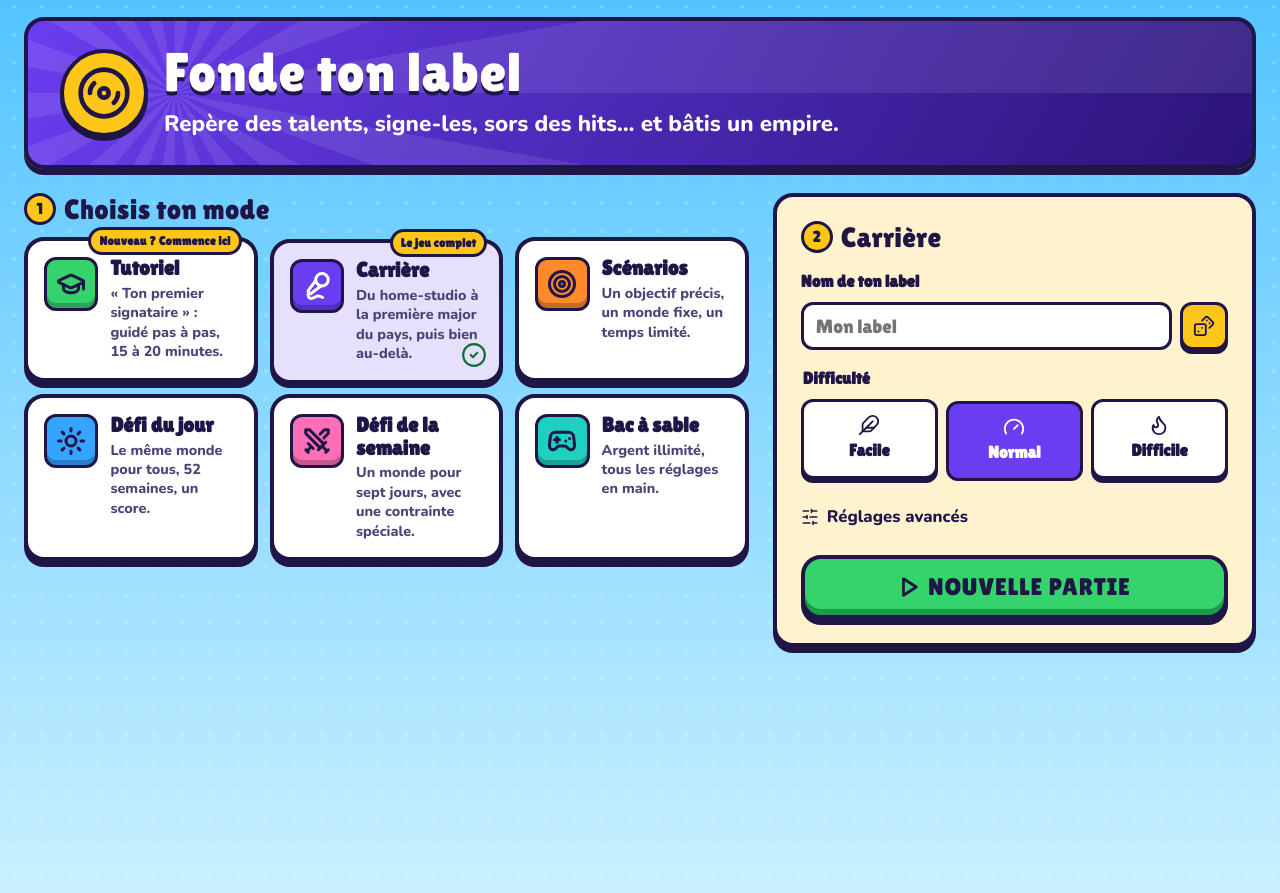
Test case: écran de départ › bloque le lancement quand un réglage sort des bornes
Expected: the button "Nouvelle partie" is enabled, [801,555,1228,619]
Click the heading "Réglages avancés" at point(884, 516), box [801,505,968,528]
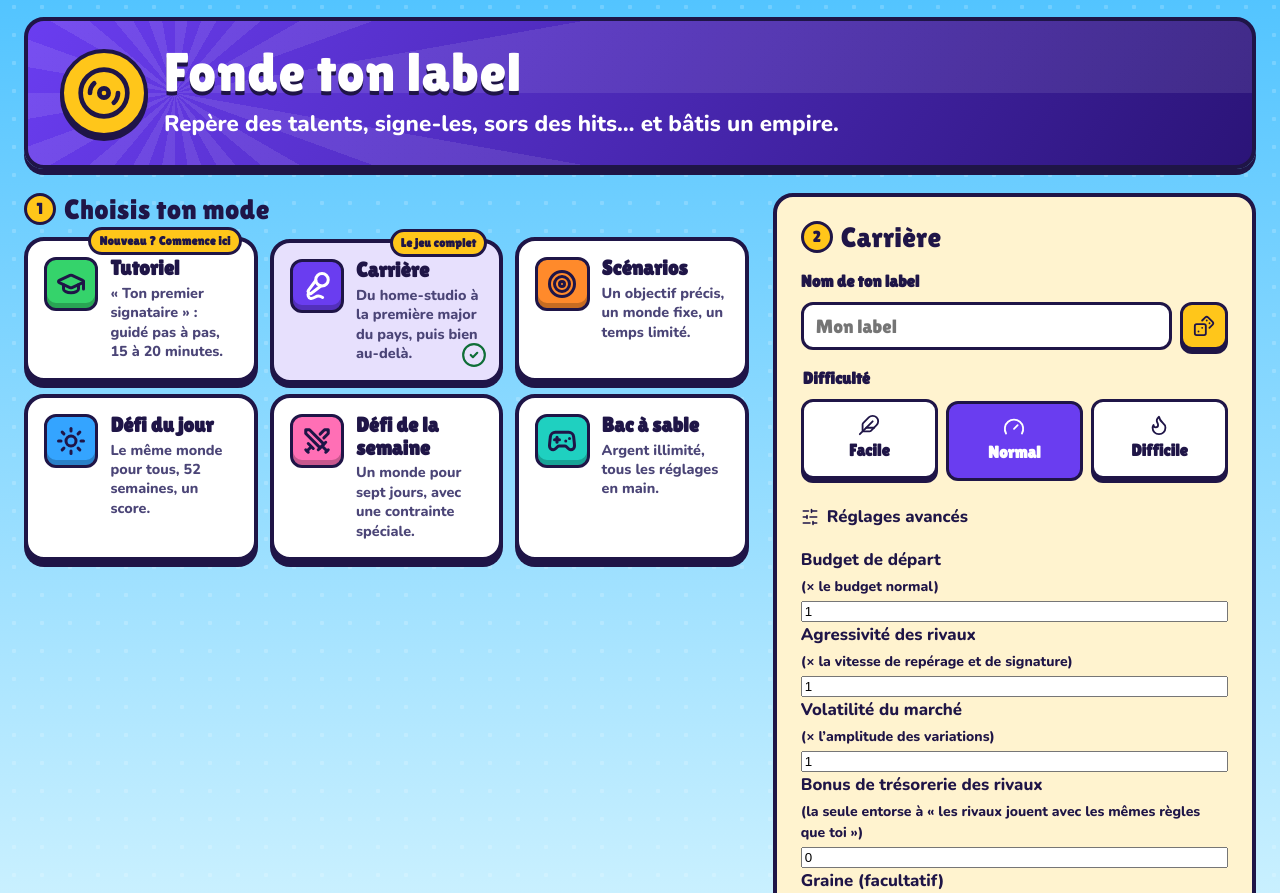
Replace the text in the number field labelled "Budget de départ (× le budget normal)" with "50" at point(1014, 611), box [801,601,1228,622]
(page scrolled)
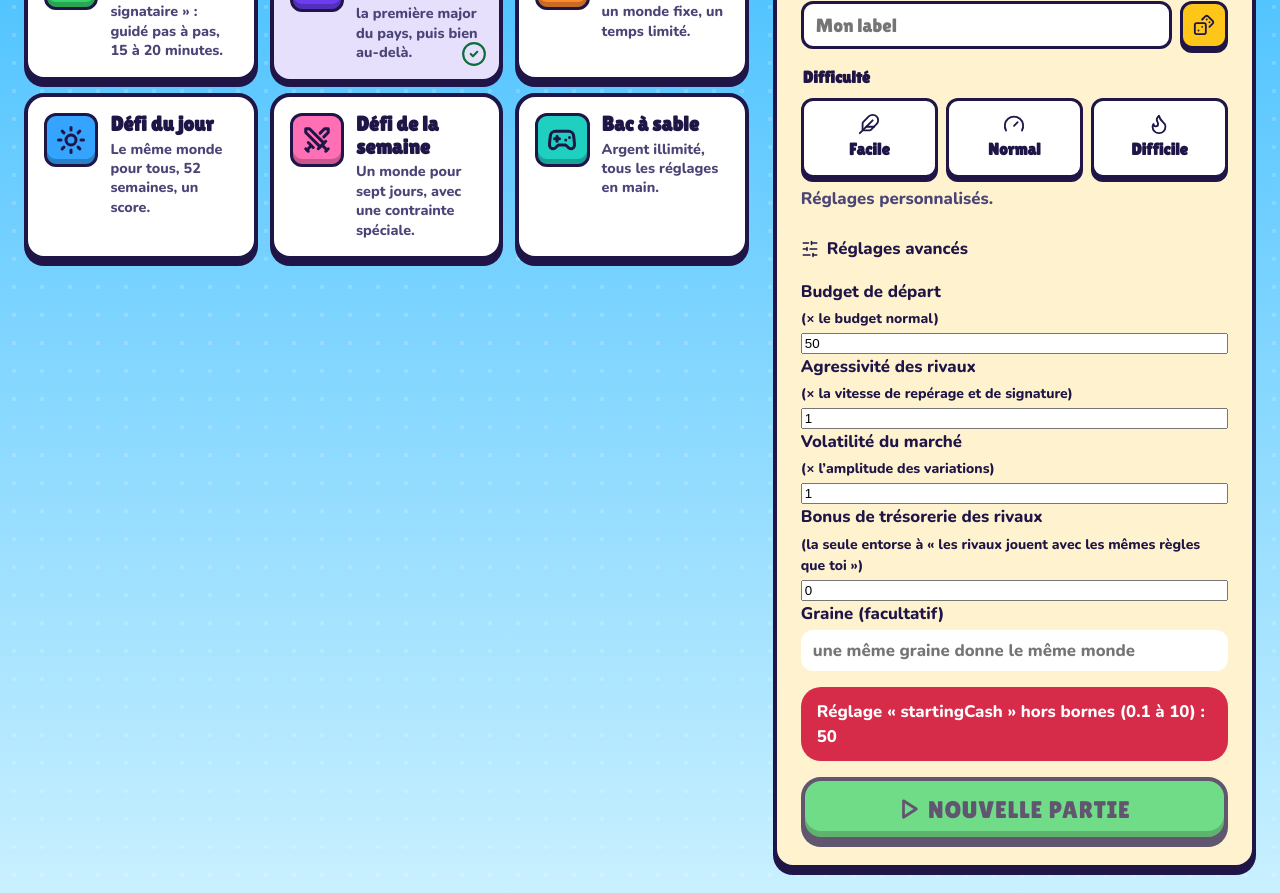
Result: the button "Nouvelle partie" is disabled at [801,777,1228,841]
Result: the message shows "hors bornes" at [817,700,1205,748]
